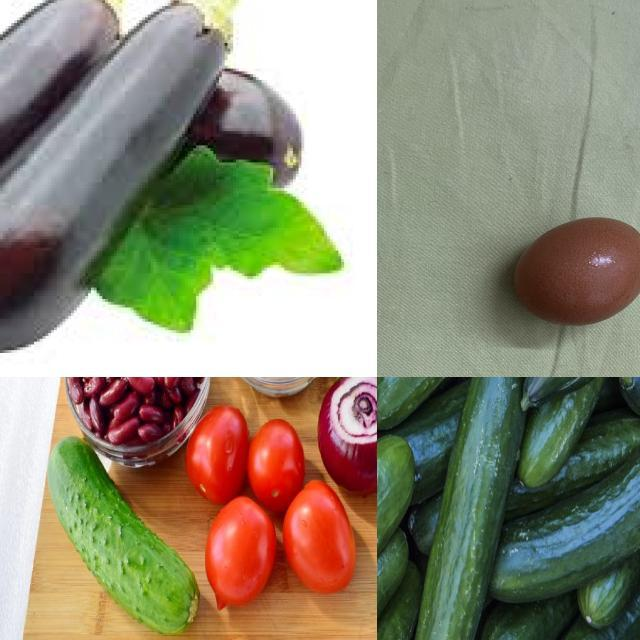cucumber: (488, 409, 640, 605), (413, 378, 524, 640), (42, 451, 198, 630)
egg: (508, 213, 640, 328)
eggplant: (1, 1, 228, 348), (1, 1, 106, 268)
onion: (321, 378, 378, 483)
tomato: (283, 488, 357, 592), (208, 505, 273, 605), (189, 407, 245, 495), (251, 410, 302, 504)
